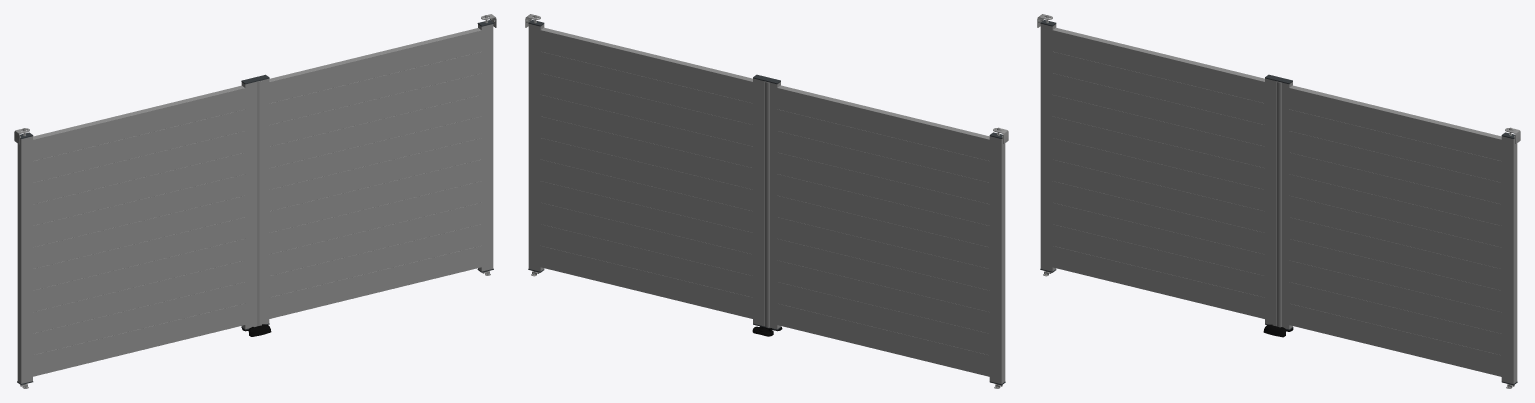
3 views of the same model, side by side, from view 1: azimuth 30°, elevation 25°; view 2: azimuth 150°, elevation 25°; view 3: azimuth 330°, elevation 25° (orthographic).
Visible parts, largest first — view 1: Shape107412823, Shape107411780, Shape107412822, Shape107412833, Shape107411789, Shape107412832, Shape107411788, Shape107411786, Shape107411784, Shape107411782, Shape107412824, Shape107412825 (+15 smaller); view 2: Shape107411780, Shape107412823, Shape107411789, Shape107412822, Shape107412832, Shape107412833, Shape107411787, Shape107411786, Shape107411785, Shape107411784, Shape107411782, Shape107411781 (+15 smaller); view 3: Shape107412823, Shape107411780, Shape107412832, Shape107412833, Shape107411789, Shape107412822, Shape107411788, Shape107411786, Shape107411785, Shape107411783, Shape107411781, Shape107412824 (+15 smaller).
Part boxes in pixels (x1,y1,x2,y2): Shape107412823: (269, 28, 481, 103); Shape107411780: (33, 85, 245, 160); Shape107412822: (33, 303, 245, 376); Shape107412833: (269, 246, 481, 318); Shape107411789: (33, 109, 245, 182); Shape107412832: (269, 52, 481, 124); Shape107411788: (33, 131, 245, 204); Shape107411786: (33, 174, 245, 247); Shape107411784: (33, 217, 245, 290); Shape107411782: (33, 260, 245, 333); Shape107412824: (269, 224, 481, 297); Shape107412825: (269, 202, 481, 275); Shape107411780: (777, 85, 989, 160); Shape107412823: (540, 27, 752, 103); Shape107411789: (777, 109, 989, 182); Shape107412822: (777, 303, 989, 376); Shape107412832: (540, 51, 752, 124); Shape107412833: (540, 246, 752, 318); Shape107411787: (777, 152, 989, 225); Shape107411786: (777, 174, 989, 247); Shape107411785: (777, 195, 989, 268); Shape107411784: (777, 217, 989, 290); Shape107411782: (777, 260, 989, 333); Shape107411781: (777, 282, 989, 355); Shape107412823: (1289, 85, 1501, 160); Shape107411780: (1052, 27, 1264, 103); Shape107412832: (1289, 109, 1501, 182); Shape107412833: (1289, 303, 1501, 376); Shape107411789: (1052, 51, 1264, 124); Shape107412822: (1052, 246, 1264, 318); Shape107411788: (1052, 73, 1264, 146); Shape107411786: (1052, 116, 1264, 189); Shape107411785: (1052, 138, 1264, 211); Shape107411783: (1052, 181, 1264, 254); Shape107411781: (1052, 224, 1264, 297); Shape107412824: (1289, 282, 1501, 355).
Size of the model in its own units: 3260 by 1696 by 146.
7 materials, 2 textured.
